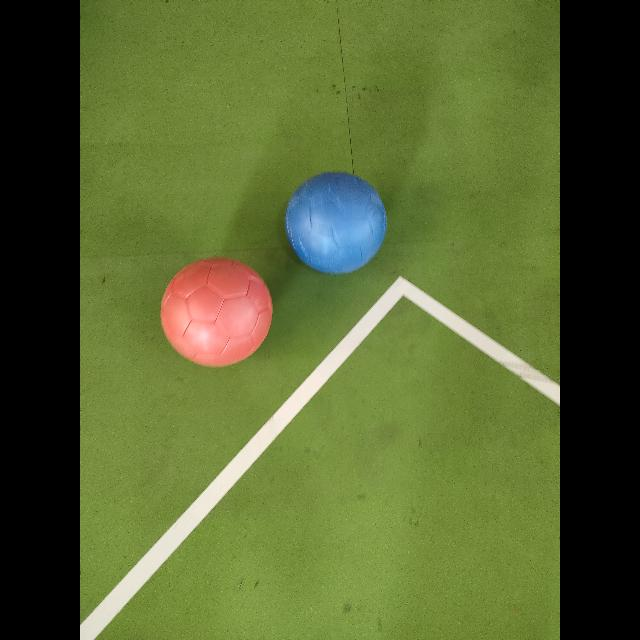B: (286, 172, 386, 272)
R: (160, 258, 272, 366)
